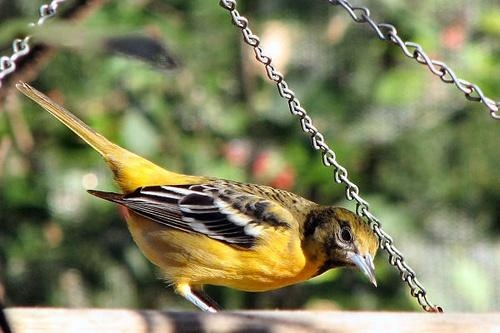bird: (16, 82, 381, 311)
